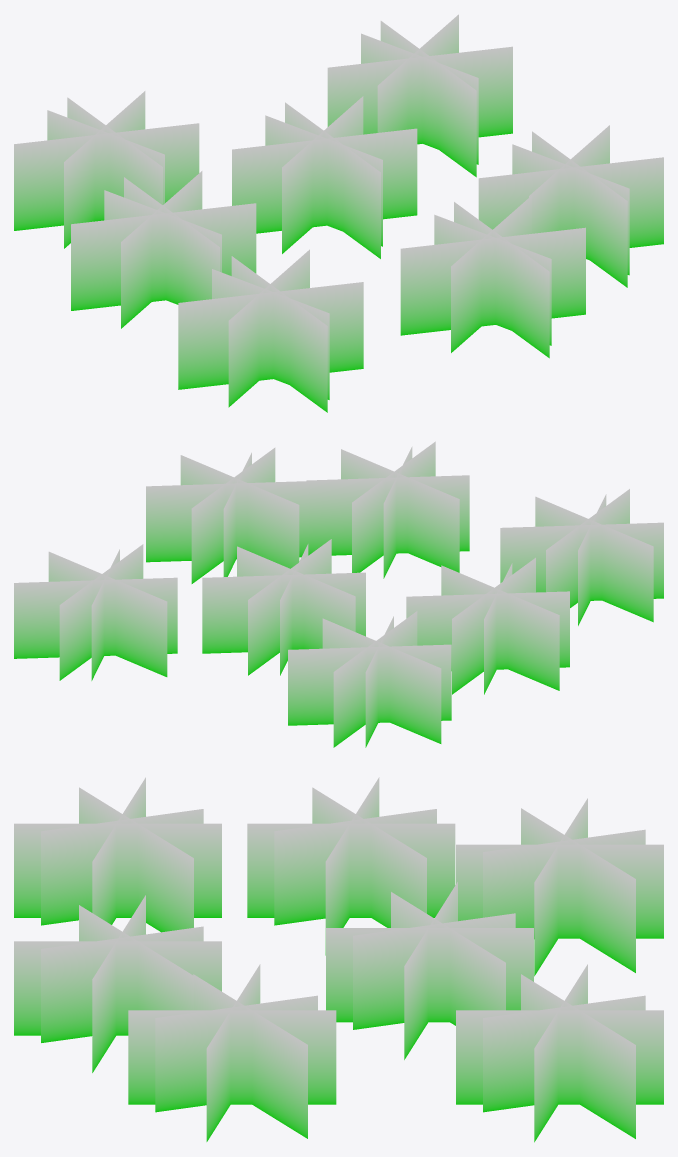
Rendered from grass_plane.fbx.
3 views of the same model, one above another, from view 1: azimuth 30°, elevation 25°; view 2: azimuth 150°, elevation 25°; view 3: azimuth 270°, elevation 25° (orthographic). The views are drawn at different scales.
Visible parts, largest first — view 1: grass_plane; view 2: grass_plane; view 3: grass_plane.
Part boxes in pixels (bbox=[...]): grass_plane: bbox=[14, 14, 663, 412]; grass_plane: bbox=[14, 441, 663, 747]; grass_plane: bbox=[14, 777, 663, 1142].
Size of the model in its own units: 348 by 56.25 by 351.
